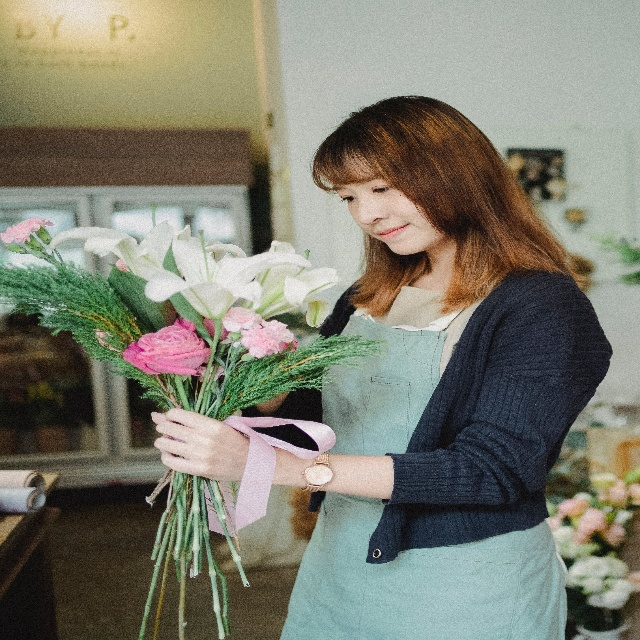Sin_guantes: (154, 403, 287, 502)
